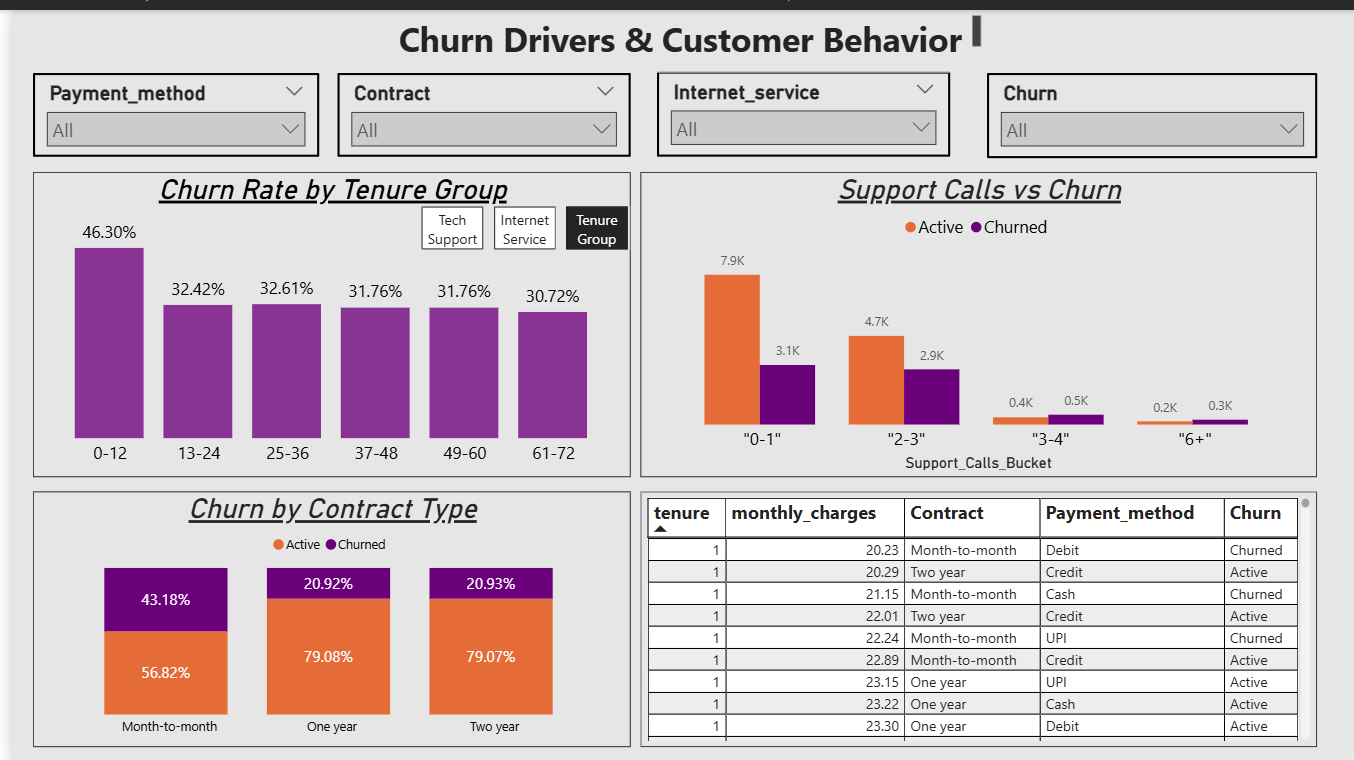

Layout of this report page (visuals, bound fields, positions):
{"tool":"powerbi","page":{"name":"Page 2","canvas":[1280,720],"ordinal":1},"visuals":[{"type":"columnChart","title":"Churn Rate by Tenure Group","fields":{"Category":["customer_churn_dataset.Tenure Bucket"],"Y":["Measures Coulmn.Churn Rate"]},"box":[19.5,154.5,570.9,291.2],"z":0},{"type":"slicer","fields":{"Values":["customer_churn_dataset.contract"]},"box":[310.7,60.2,279.8,79.7],"z":1000},{"type":"slicer","fields":{"Values":["customer_churn_dataset.payment_method"]},"box":[19.5,60.2,273.3,79.7],"z":2000},{"type":"slicer","fields":{"Values":["customer_churn_dataset.internet_service"]},"box":[616.5,58.6,279.8,81.3],"z":3000},{"type":"slicer","fields":{"Values":["customer_churn_dataset.churn"]},"box":[930.4,60.2,315.5,81.3],"z":4000},{"type":"hundredPercentStackedColumnChart","title":"Churn by Contract Type","fields":{"Category":["customer_churn_dataset.Contract"],"Series":["customer_churn_dataset.Churn"],"Y":["CountNonNull(customer_churn_dataset.customer_id)"]},"box":[19.5,460.3,570.9,244],"z":5000},{"type":"clusteredColumnChart","title":"Support Calls vs Churn","fields":{"Category":["customer_churn_dataset.Support_Calls_Bucket"],"Series":["customer_churn_dataset.Churn"],"Y":["Count(customer_churn_dataset.customer_id)"]},"box":[600.2,154.5,645.7,291.2],"z":8000},{"type":"tableEx","fields":{"Values":["customer_churn_dataset.tenure","customer_churn_dataset.monthly_charges","customer_churn_dataset.Contract","customer_churn_dataset.Payment_method","customer_churn_dataset.Churn"]},"box":[600.2,460.3,645.7,244],"z":9000},{"type":"bookmarkNavigator","box":[391,187.6,199.1,41.5],"z":10000},{"type":"textbox","box":[364.3,0,566,60.2],"z":11000}]}

Visuals, with their boxes in screenshot pixels (x1, y1, x2, y2), scaled from the page's 1280x720 canvas onto the 1354x760 screenshot:
"Churn Rate by Tenure Group" columnChart: <box>21,163,625,470</box>
slicer - customer_churn_dataset.contract: <box>329,64,625,148</box>
slicer - customer_churn_dataset.payment_method: <box>21,64,310,148</box>
slicer - customer_churn_dataset.internet_service: <box>652,62,948,148</box>
slicer - customer_churn_dataset.churn: <box>984,64,1318,149</box>
"Churn by Contract Type" hundredPercentStackedColumnChart: <box>21,486,625,743</box>
"Support Calls vs Churn" clusteredColumnChart: <box>635,163,1318,470</box>
tableEx - customer_churn_dataset.tenure x customer_churn_dataset.monthly_charges: <box>635,486,1318,743</box>
bookmarkNavigator: <box>414,198,624,242</box>
textbox: <box>385,0,984,64</box>
